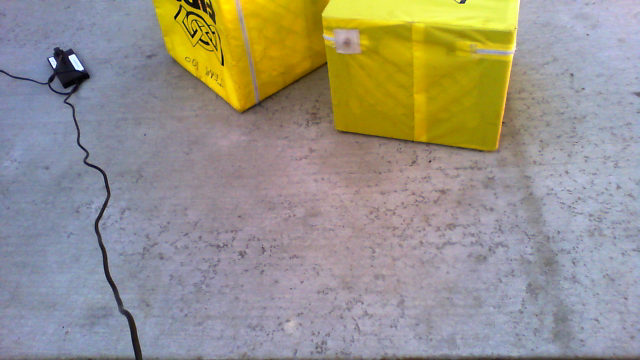cube: (320, 1, 521, 154), (152, 1, 339, 114)
